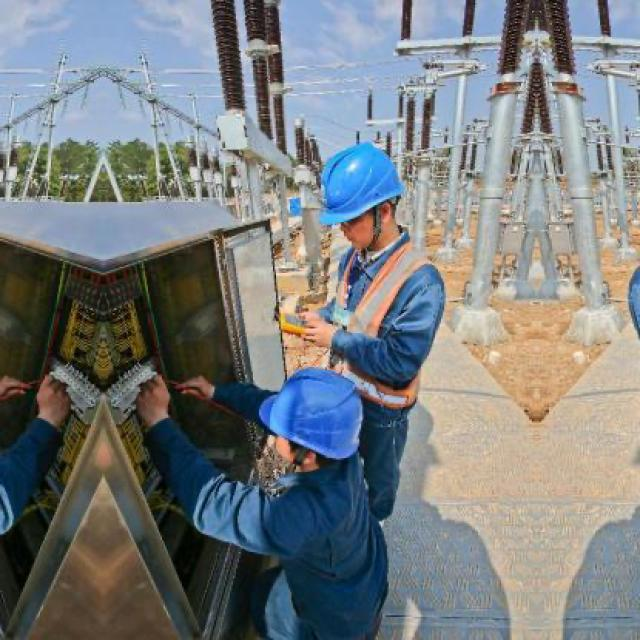helmet: (252, 359, 376, 492), (312, 134, 407, 262)
